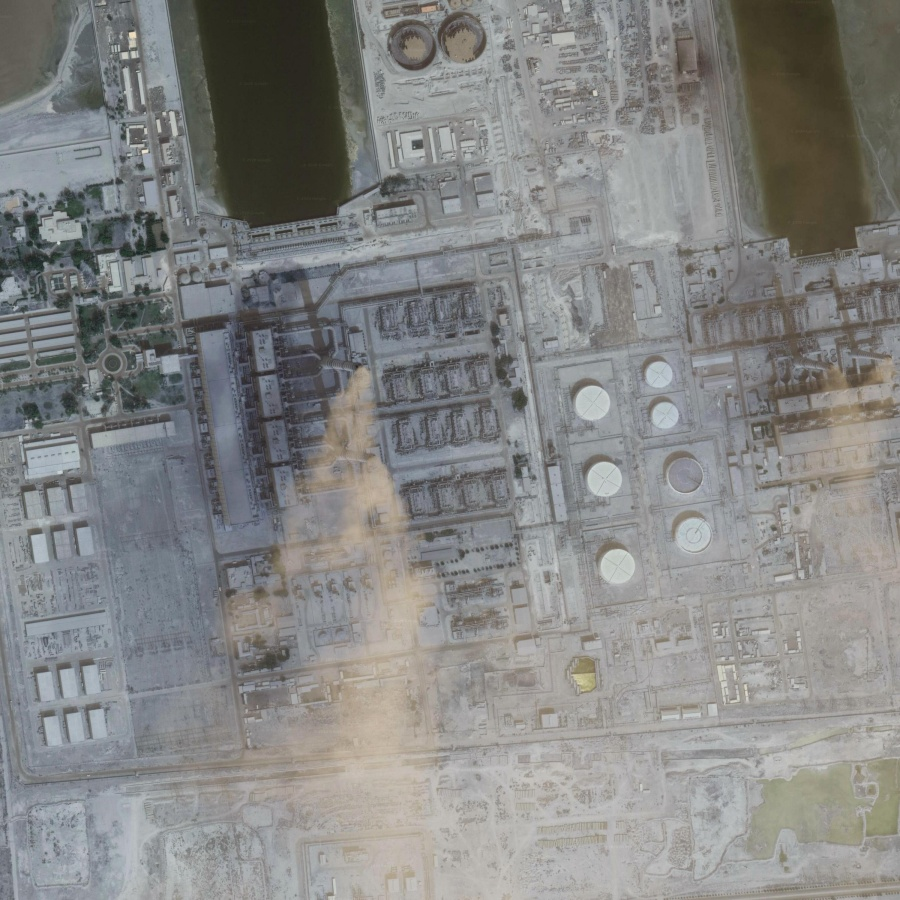PowerPlant: (198, 221, 728, 697)
